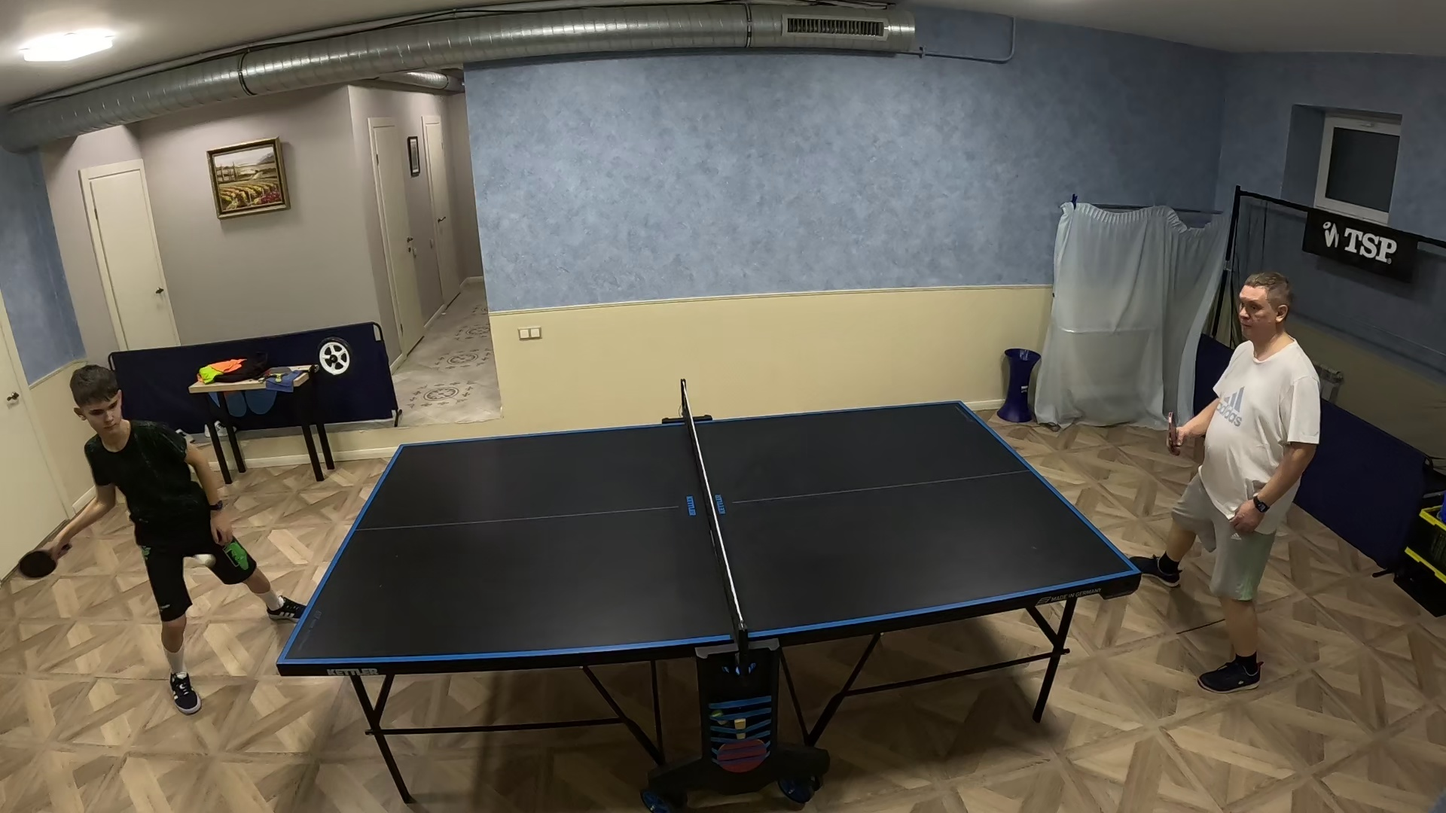Ball: (187, 555, 215, 568)
